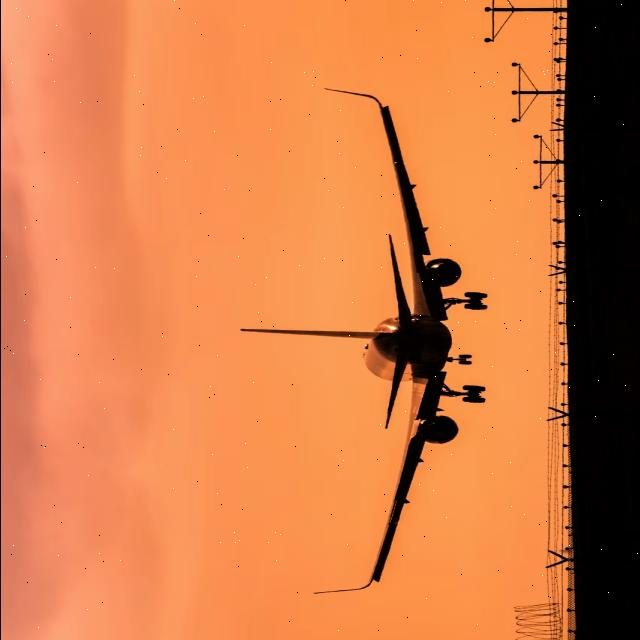aircraft: (216, 45, 524, 626)
